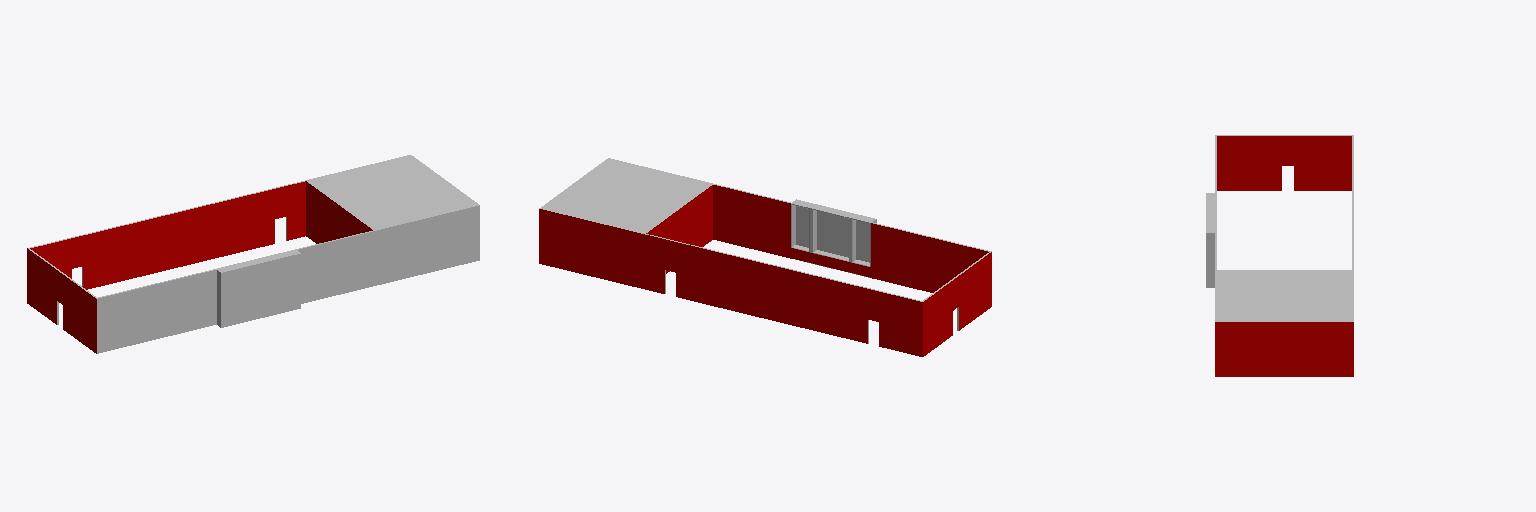
The model's file is SpeakeasyWalls.obj.
3 renders of one model, left to right at view 1: azimuth 30°, elevation 25°; view 2: azimuth 150°, elevation 25°; view 3: azimuth 270°, elevation 25°, orthographic.
Visible parts, largest first — view 1: Plane.019_Plane.021; view 2: Plane.019_Plane.021; view 3: Plane.019_Plane.021.
Part boxes in pixels (left/top/right/bottom): Plane.019_Plane.021: left=27, top=155, right=479, bottom=353; Plane.019_Plane.021: left=539, top=158, right=991, bottom=356; Plane.019_Plane.021: left=1206, top=135, right=1353, bottom=376.
Bounding box in the file's own units: 36.4 × 5 × 12.11.